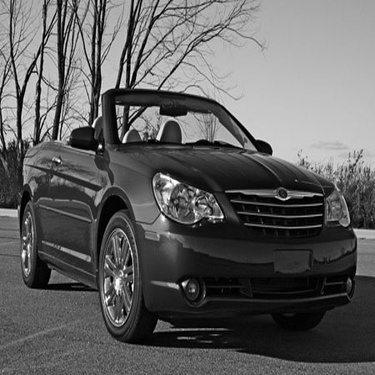car: (16, 80, 358, 342)
